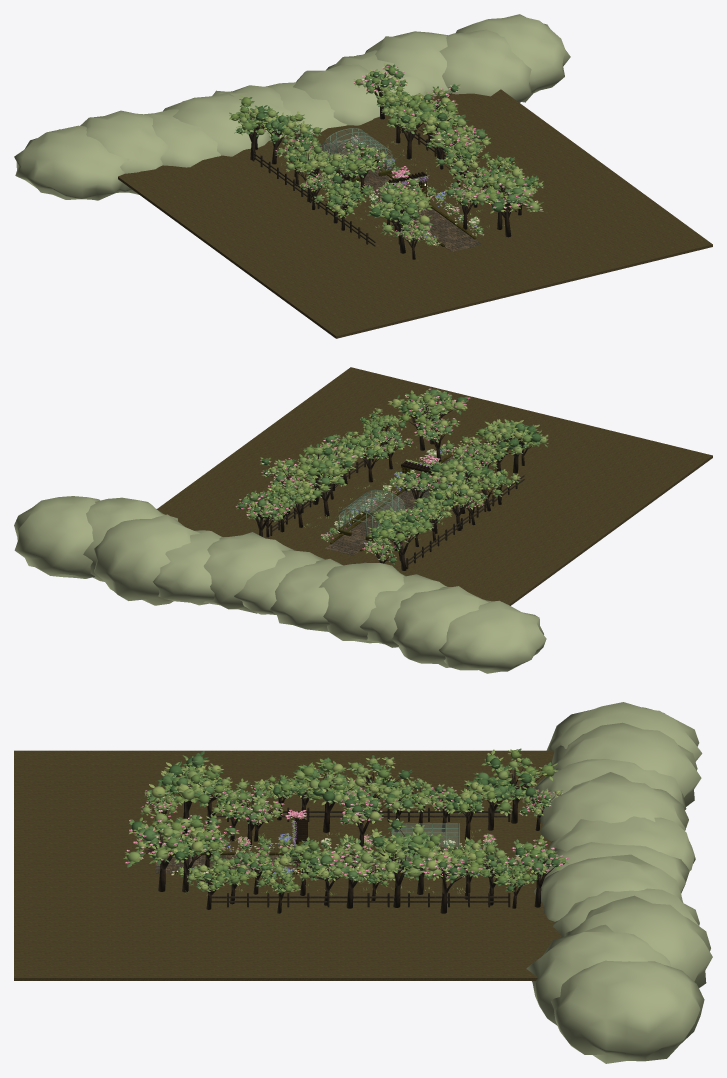
Rendered from garden-0.glb.
The picture shows the model from 3 angles, top to bottom: view 1: azimuth 30°, elevation 25°; view 2: azimuth 150°, elevation 25°; view 3: azimuth 270°, elevation 25°; orthographic projection. The views are drawn at different scales.
Visible parts, largest first — view 1: Terrain, Distant garden ridges, Inner canopy clusters, Canopy leaf sprays, Individual garden flagstones, Branch forks, Forked timber and bark, Sculpted petals, Oval leaves on low shrubs, Garden fence rails; view 2: Terrain, Distant garden ridges, Inner canopy clusters, Canopy leaf sprays, Branch forks, Forked timber and bark, Sculpted petals, Individual garden flagstones, Garden fence rails, Garden fence posts, Oval leaves on low shrubs; view 3: Terrain, Distant garden ridges, Inner canopy clusters, Canopy leaf sprays, Branch forks, Forked timber and bark, Sculpted petals, Garden fence rails, Individual garden flagstones, Oval leaves on low shrubs, Garden fence posts, Leaf masses inside low shrubs.
Part boxes in pixels (x1,y1,x2,y2): Terrain: [118, 89, 712, 338]; Distant garden ridges: [14, 14, 570, 200]; Inner canopy clusters: [230, 64, 542, 241]; Canopy leaf sprays: [229, 63, 543, 244]; Individual garden flagstones: [312, 140, 481, 251]; Branch forks: [238, 71, 537, 248]; Forked timber and bark: [250, 92, 525, 259]; Sculpted petals: [235, 65, 542, 244]; Oval leaves on low shrubs: [309, 136, 483, 245]; Garden fence rails: [253, 126, 516, 246]; Terrain: [157, 367, 712, 605]; Distant garden ridges: [14, 496, 546, 673]; Inner canopy clusters: [238, 389, 546, 562]; Canopy leaf sprays: [236, 389, 548, 564]; Branch forks: [245, 404, 532, 563]; Forked timber and bark: [259, 400, 524, 570]; Sculpted petals: [235, 388, 538, 561]; Individual garden flagstones: [325, 449, 481, 555]; Garden fence rails: [272, 443, 524, 564]; Garden fence posts: [270, 444, 517, 569]; Oval leaves on low shrubs: [321, 444, 492, 548]; Terrain: [14, 750, 561, 980]; Distant garden ridges: [526, 702, 712, 1063]; Inner canopy clusters: [126, 750, 565, 892]; Canopy leaf sprays: [123, 748, 568, 893]; Branch forks: [145, 759, 555, 900]; Forked timber and bark: [158, 774, 541, 913]; Sculpted petals: [125, 780, 568, 878]; Garden fence rails: [211, 811, 508, 902]; Individual garden flagstones: [155, 855, 509, 873]; Oval leaves on low shrubs: [178, 833, 495, 879]; Garden fence posts: [227, 807, 510, 907]; Leaf masses inside low shrubs: [178, 837, 494, 878].
Size of the model in its own units: 54.39 by 9.95 by 49.39.
10 materials, 4 textured.
